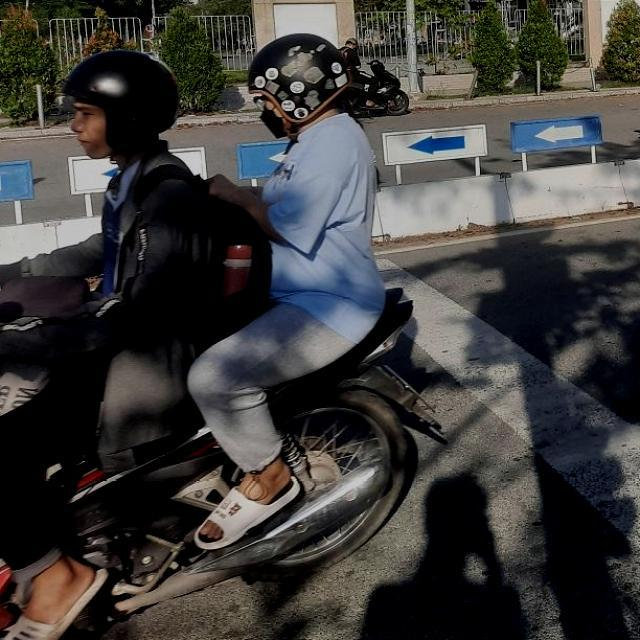Helmet: (65, 49, 184, 156), (246, 29, 346, 134)
